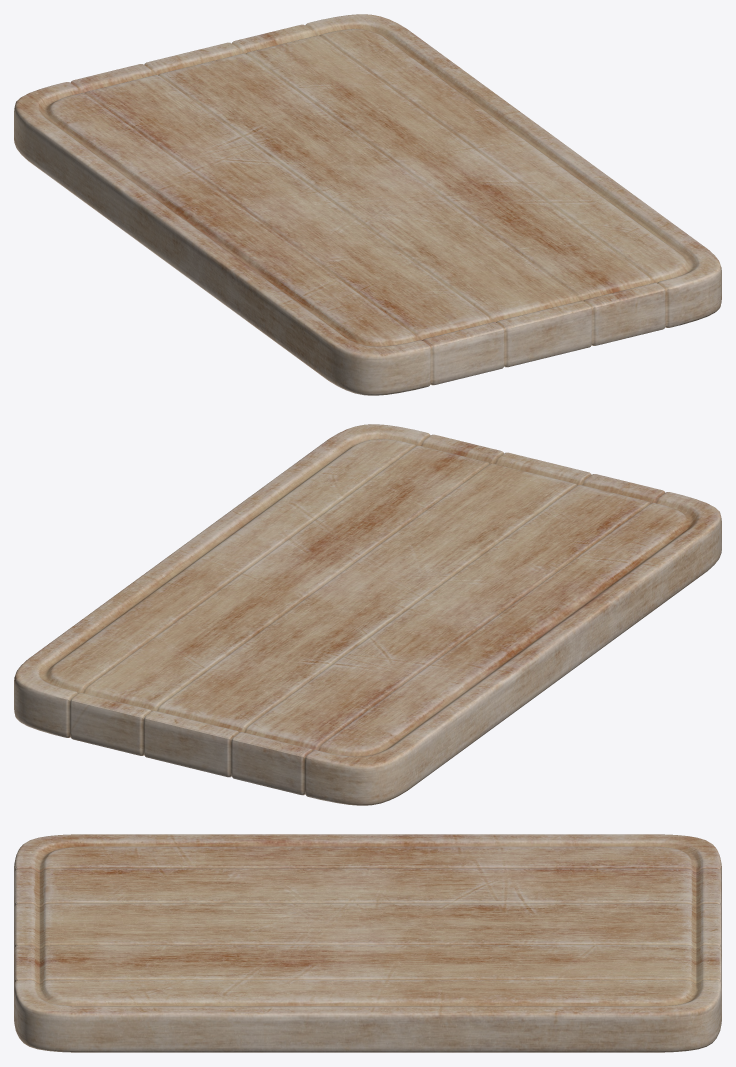
Rendered from cutting_board_c1e6ac573c37.glb.
3 views of the same model, one above another, from view 1: azimuth 30°, elevation 25°; view 2: azimuth 150°, elevation 25°; view 3: azimuth 270°, elevation 25° (orthographic). The views are drawn at different scales.
Parts seen in each view (by area): view 1: pCube1; view 2: pCube1; view 3: pCube1.
Boxes of the visible parts, x1,y1,x2,y2 form: pCube1: (14, 14, 721, 395); pCube1: (14, 424, 721, 805); pCube1: (14, 834, 721, 1052).
Size of the model in its own units: 0.4594 by 0.0485 by 0.7579.
1 material, 1 textured.
